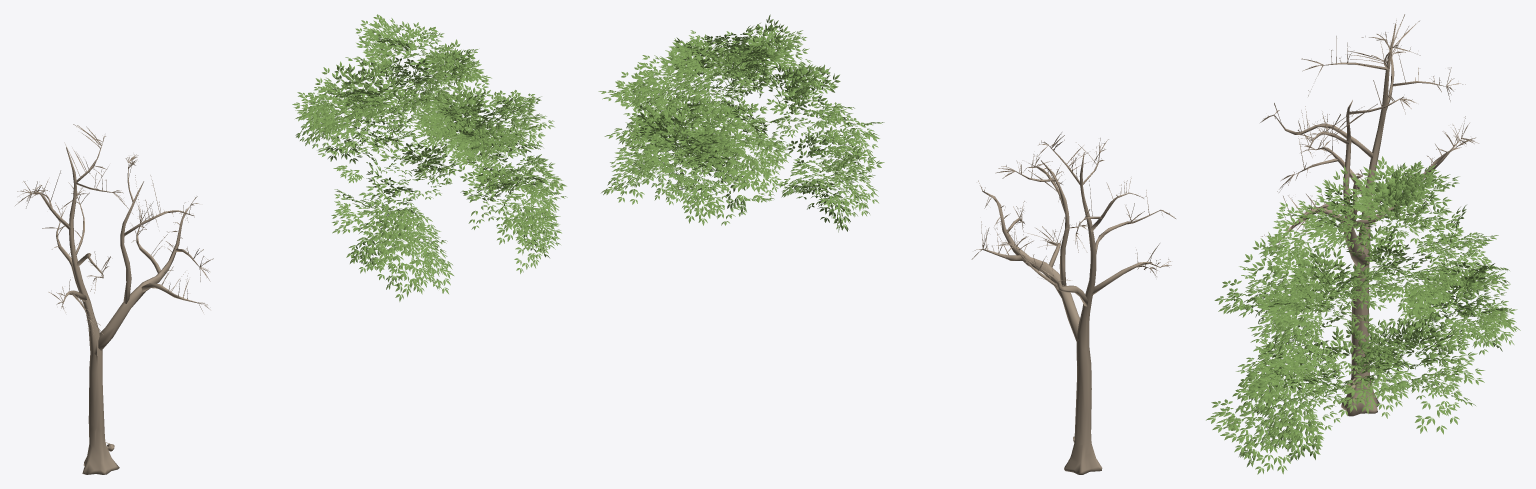
The picture shows the model from 3 angles, left to right: view 1: azimuth 30°, elevation 25°; view 2: azimuth 150°, elevation 25°; view 3: azimuth 270°, elevation 25°; orthographic projection. The views are drawn at different scales.
Parts seen in each view (by area): view 1: V25_LOD0_Foliage, V25_LOD0_Body; view 2: V25_LOD0_Foliage, V25_LOD0_Body; view 3: V25_LOD0_Foliage, V25_LOD0_Body.
Part boxes in pixels (x1=…): V25_LOD0_Foliage: x1=292, y1=14, x2=567, y2=301; V25_LOD0_Body: x1=15, y1=124, x2=213, y2=474; V25_LOD0_Foliage: x1=598, y1=14, x2=884, y2=232; V25_LOD0_Body: x1=971, y1=132, x2=1175, y2=474; V25_LOD0_Foliage: x1=1206, y1=156, x2=1520, y2=474; V25_LOD0_Body: x1=1260, y1=14, x2=1478, y2=416.
Size of the model in its own units: 19.88 by 13 by 8.84.
